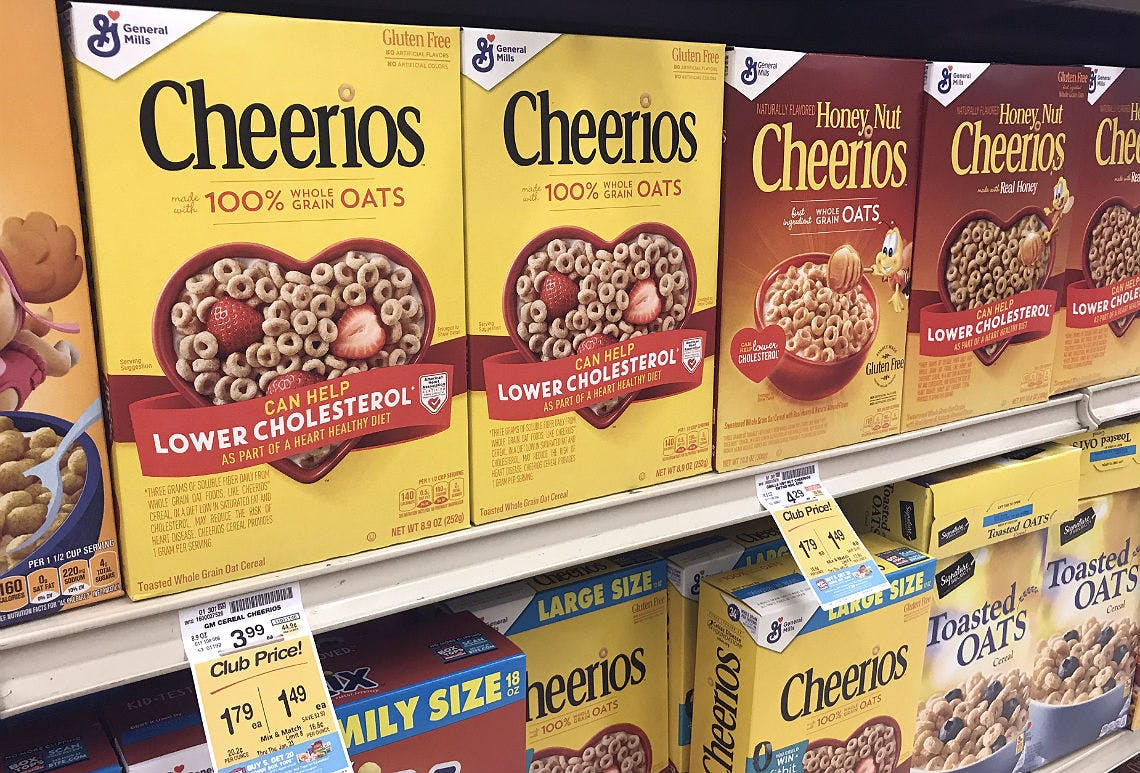cereal: (71, 5, 461, 599), (454, 14, 719, 531), (724, 41, 905, 466), (927, 57, 1066, 428), (744, 570, 930, 773), (919, 523, 1055, 773), (1051, 508, 1140, 750)
